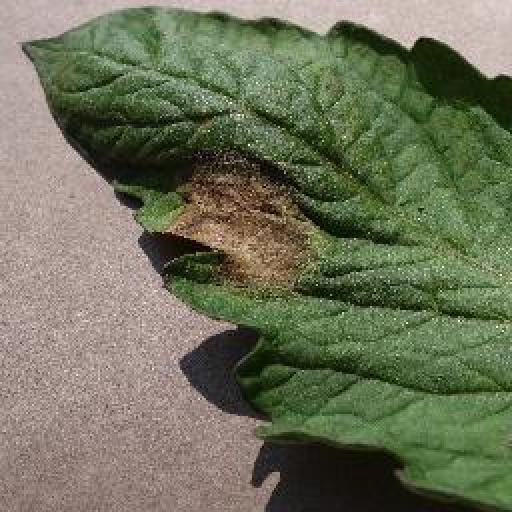disease_tomato: (25, 0, 512, 512)
